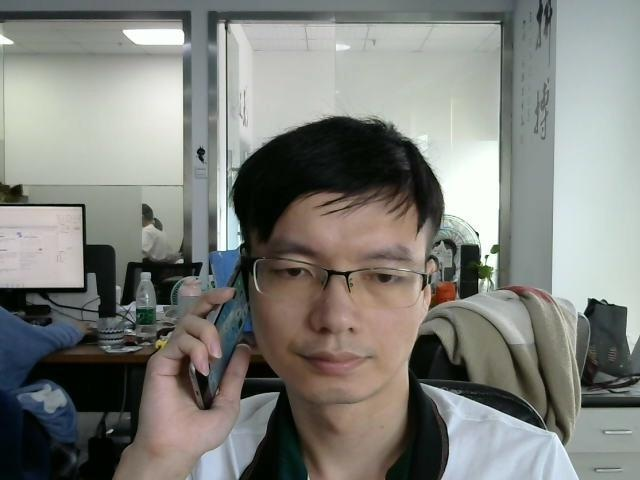hand: (141, 287, 248, 443)
